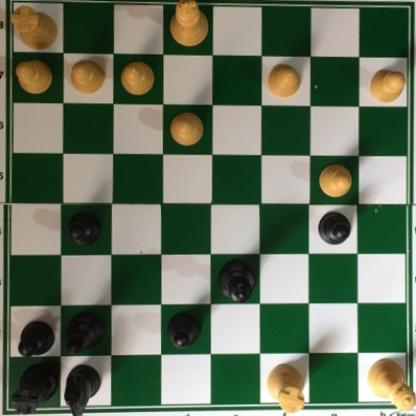black-bishop: (67, 313, 110, 357)
black-king: (216, 259, 259, 307)
black-knight: (62, 362, 102, 415)
black-pawn: (17, 320, 56, 359), (167, 311, 204, 350), (67, 211, 103, 250), (318, 211, 353, 247)
black-rook: (11, 361, 62, 415)
white-king: (168, 0, 211, 51)
white-pawn: (265, 62, 304, 102), (168, 110, 207, 148), (317, 162, 355, 200), (119, 61, 159, 97), (69, 58, 107, 95), (17, 59, 56, 94), (369, 70, 406, 105)
white-queen: (367, 359, 415, 415)
white-rook: (8, 6, 63, 55), (268, 361, 311, 414)
